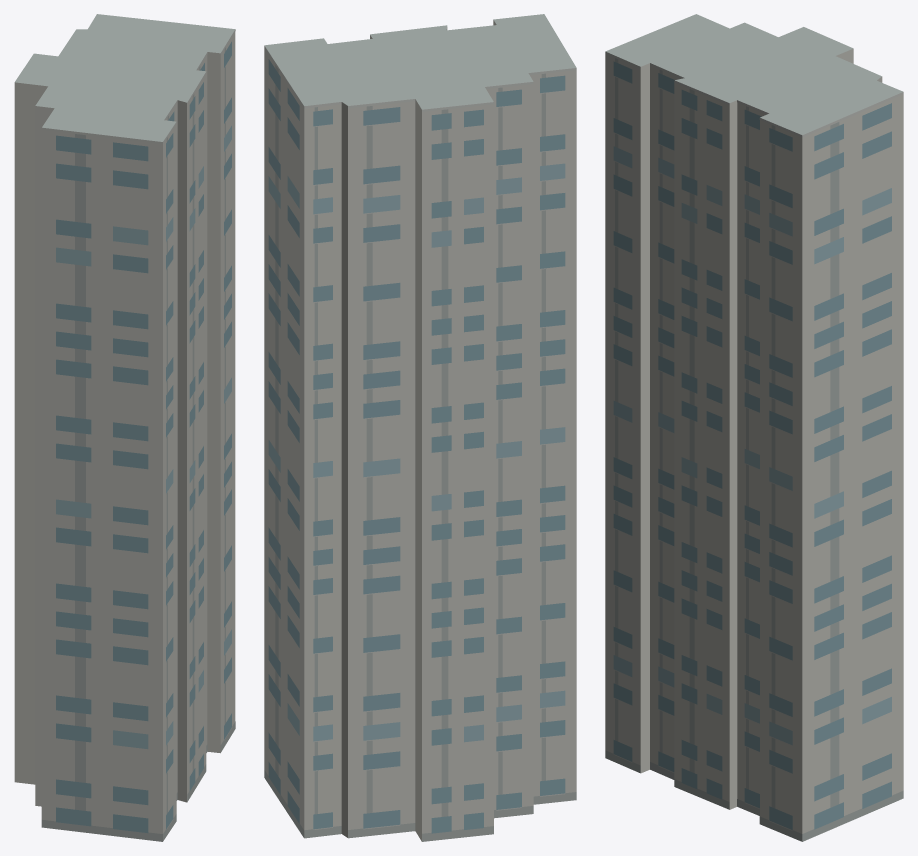
The model's file is residential-b8d1489c-16aa-4884-b4c5-b32613a32e44.glb.
3 views of the same model, side by side, from view 1: azimuth 30°, elevation 25°; view 2: azimuth 150°, elevation 25°; view 3: azimuth 270°, elevation 25° (orthographic). The views are drawn at different scales.
Parts seen in each view (by area): view 1: residential-b8d1489c-16aa-4884-b4c5-b32613a32e44.tmp; view 2: residential-b8d1489c-16aa-4884-b4c5-b32613a32e44.tmp; view 3: residential-b8d1489c-16aa-4884-b4c5-b32613a32e44.tmp.
Boxes of the visible parts, <box> form: residential-b8d1489c-16aa-4884-b4c5-b32613a32e44.tmp: <box>14,14,235,841</box>; residential-b8d1489c-16aa-4884-b4c5-b32613a32e44.tmp: <box>264,14,576,841</box>; residential-b8d1489c-16aa-4884-b4c5-b32613a32e44.tmp: <box>605,14,903,841</box>.
Size of the model in its own units: 27.25 by 74 by 28.32.
